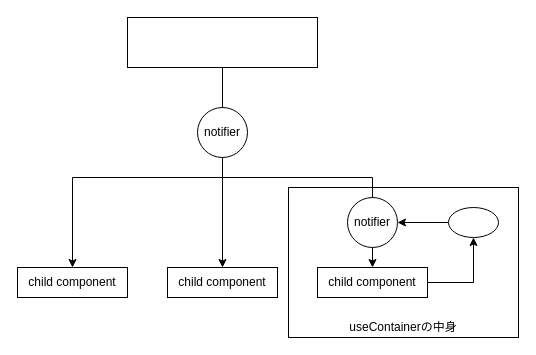
This 536x355 diagram has some shape labels left out. Here are the shapes that lost their labels. From the top down, the centre of each, then its label:
pixel 222 42: notifier context provider
pixel 473 222: listener
